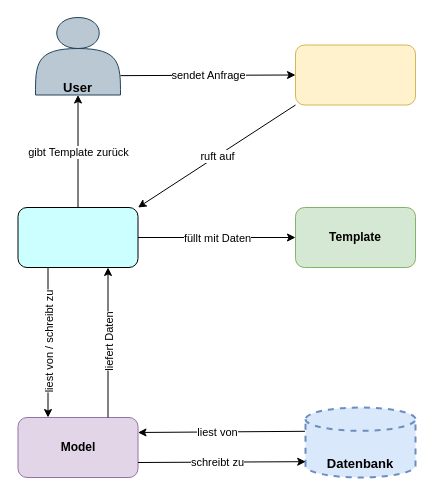
The diagram is 433 pixels wide and 496 high, and some of its shapes have lost their labels. The shapes that lost their labels are listed below. From the top down, each one's box as (x1, y1, x2, y2) in pixels, then its label:
(294, 44, 416, 105): URL Dispatcher
(17, 206, 138, 268): View
